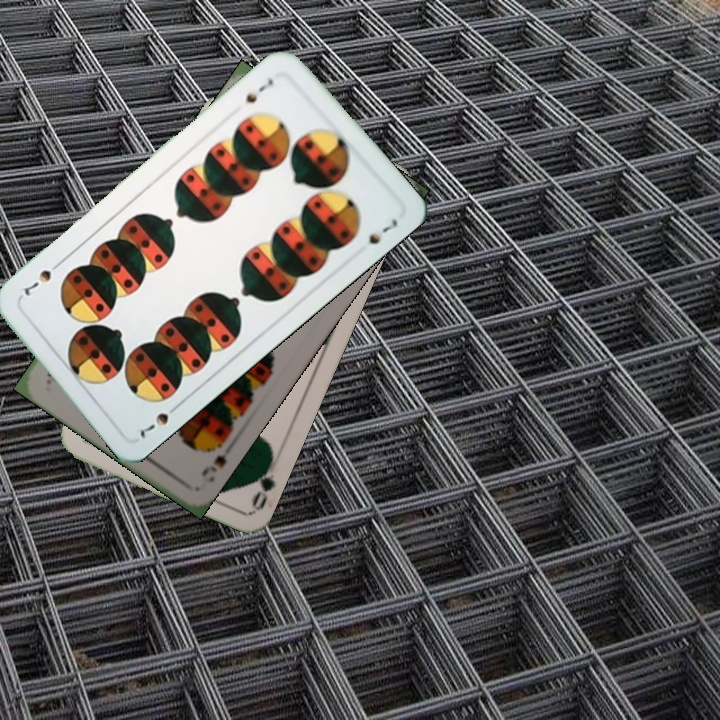GO: (247, 452, 278, 512)
S7: (135, 399, 183, 441), (238, 74, 276, 107)
S9: (197, 434, 238, 479)
